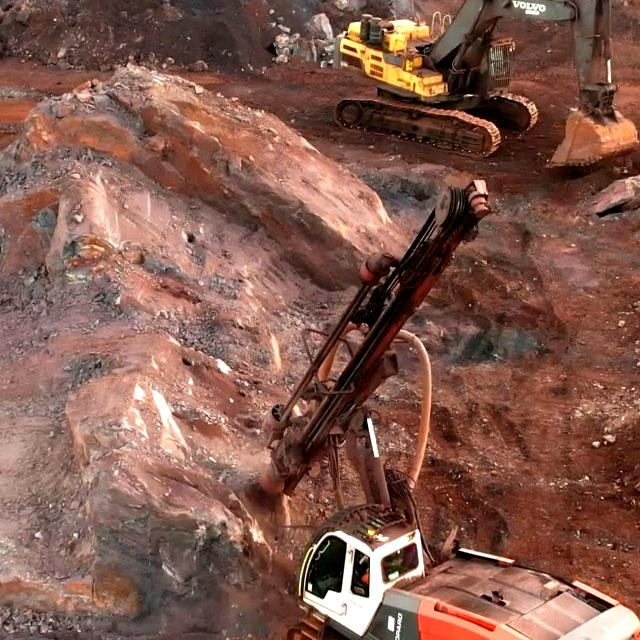Blast rig: (291, 517, 624, 640)
Excavator: (349, 10, 503, 134), (543, 0, 637, 166)
